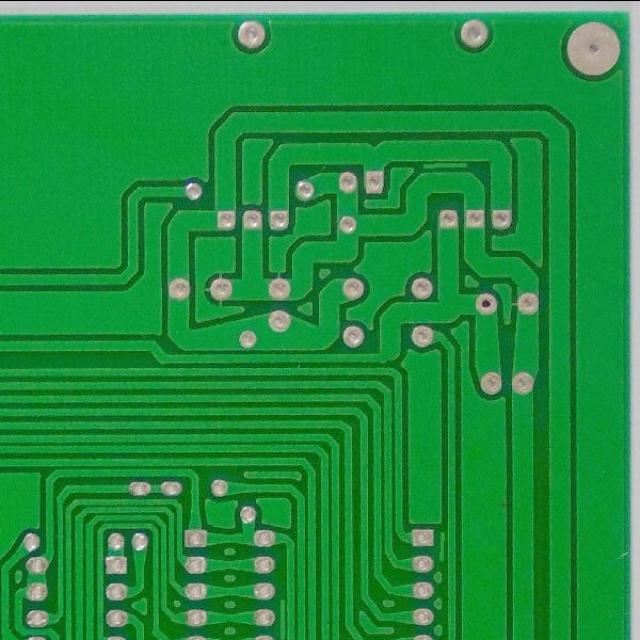Missing_Hole: (474, 291, 499, 316)
Spurious_Cooper: (421, 159, 472, 172), (276, 595, 288, 640), (436, 528, 447, 563)
